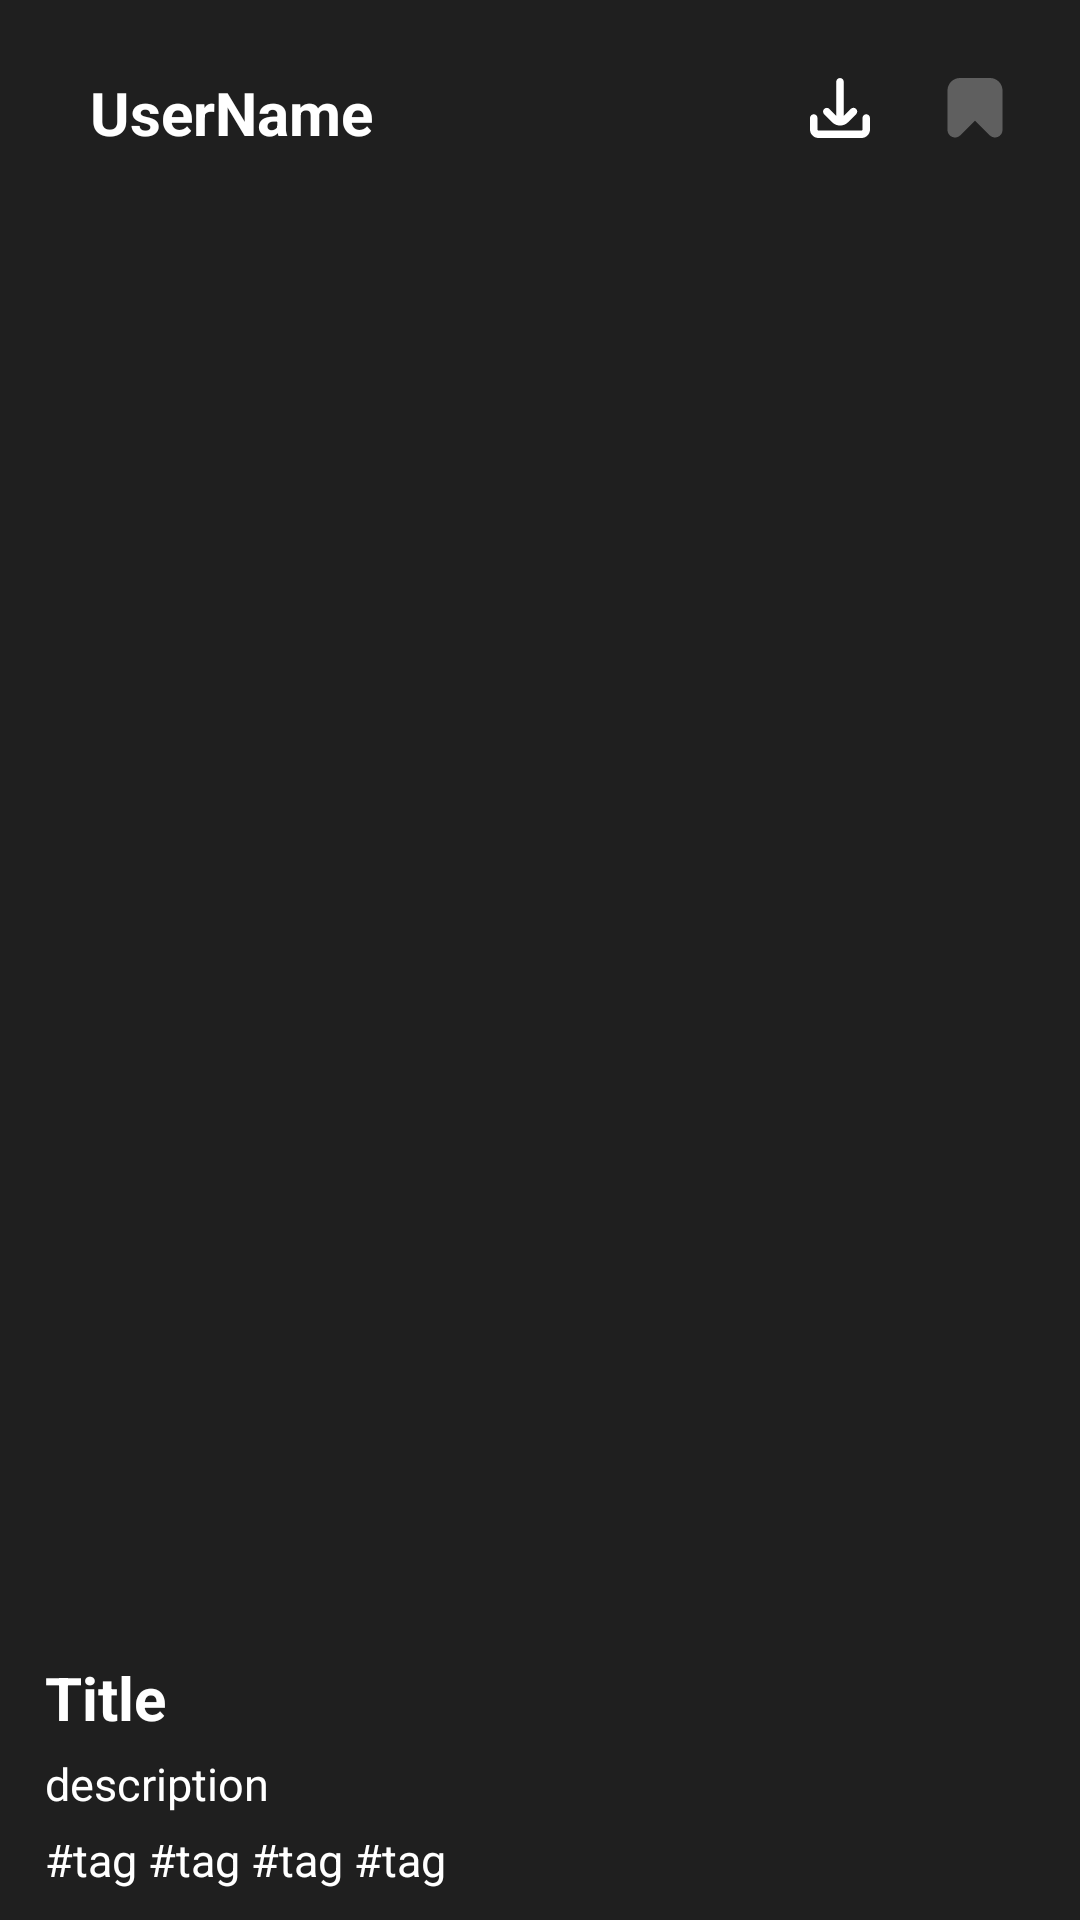

Where icons sit on this 1080w x 1920h app screen, as (x1, y1, x2, y2):
bookmark: (947, 78, 1003, 138)
download: (810, 78, 870, 138)
